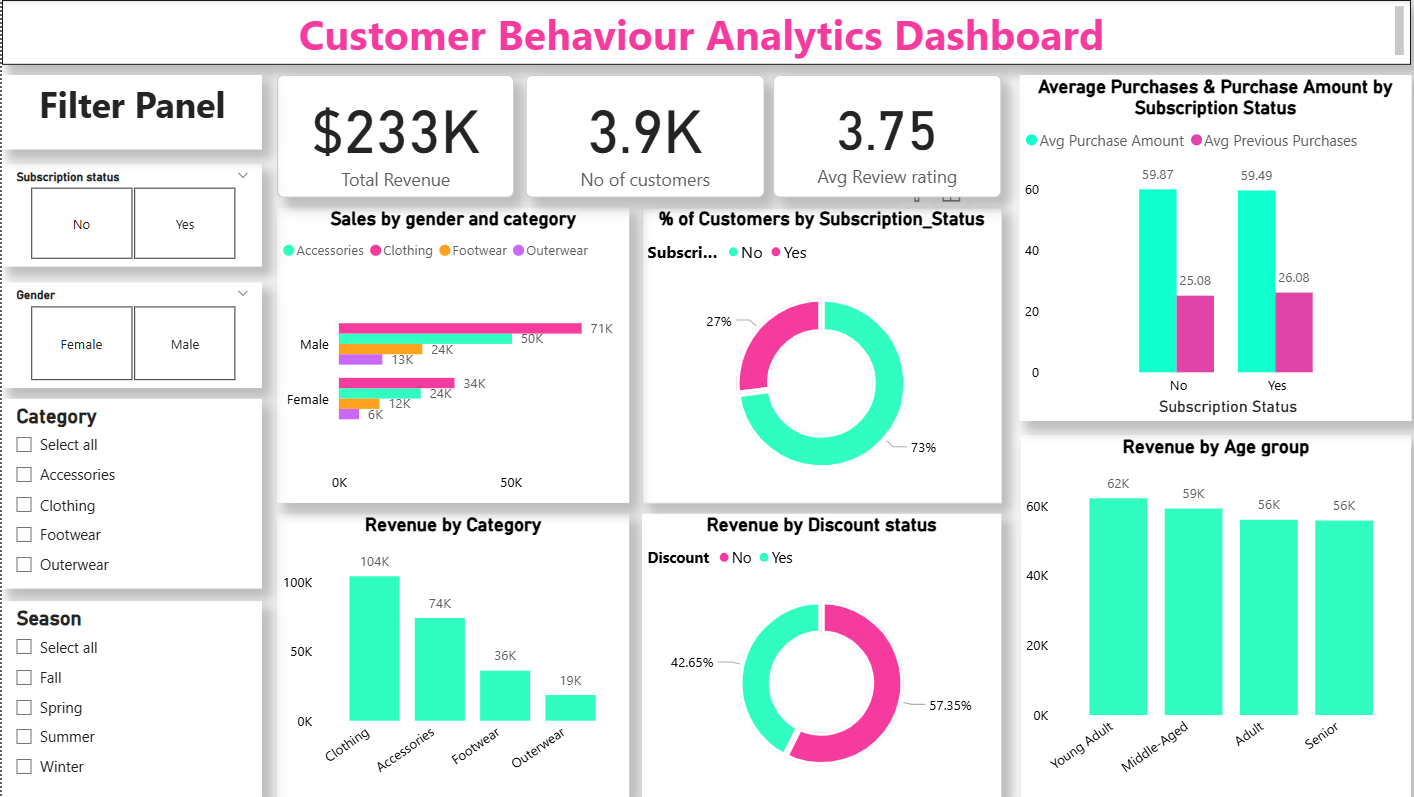

The page's visual inventory and layout, read from the dashboard file:
{"tool":"powerbi","page":{"name":"Page 1","canvas":[1280,720],"ordinal":0},"visuals":[{"type":"textbox","box":[0,0,1270.5,58.7],"z":0},{"type":"donutChart","title":"% of Customers by Subscription_Status","fields":{"Category":["customer_behaviour customer.subscription_status"],"Y":["customer_behaviour customer.No of customers"]},"box":[577.2,187.1,324.1,266.6],"z":1000},{"type":"clusteredColumnChart","title":"Revenue by Category","fields":{"Y":["Sum(customer_behaviour customer.purchase_amount)"],"Category":["customer_behaviour customer.category"]},"box":[248.2,463.5,317.9,256.8],"z":2000},{"type":"clusteredBarChart","title":"Sales by gender and category","fields":{"Category":["customer_behaviour customer.gender"],"Series":["customer_behaviour customer.category"],"Y":["Sum(customer_behaviour customer.purchase_amount)"]},"box":[248.2,187.1,317.9,266.6],"z":3000},{"type":"columnChart","title":"Revenue  by Age group","fields":{"Category":["customer_behaviour customer.age_group"],"Y":["Sum(customer_behaviour customer.purchase_amount)"]},"box":[918.3,392.5,352.2,327.7],"z":4000},{"type":"donutChart","title":"Revenue by Discount status","fields":{"Category":["customer_behaviour customer.discount_applied"],"Y":["Sum(customer_behaviour customer.purchase_amount)"]},"box":[577.2,463.5,324.1,256.8],"z":5000},{"type":"clusteredColumnChart","title":"Average Purchases & Purchase Amount by Subscription Status","fields":{"Category":["customer_behaviour customer.subscription_status"],"Y":["Avg(customer_behaviour customer.purchase_amount)","Avg(customer_behaviour customer.previous_purchases)"]},"box":[917.1,67.3,353.4,311.8],"z":6000},{"type":"card","fields":{"Values":["Sum(customer_behaviour customer.purchase_amount)"]},"box":[248.2,67.3,214,110.1],"z":7000},{"type":"card","fields":{"Values":["customer_behaviour customer.No of customers"]},"box":[472,67.3,215.2,110.1],"z":8000},{"type":"card","fields":{"Values":["customer_behaviour customer.Avg Review rating"]},"box":[695.8,67.3,205.4,110.1],"z":9000},{"type":"slicer","fields":{"Values":["customer_behaviour customer.subscription_status"]},"box":[0,148,234.8,92.9],"z":10000},{"type":"slicer","fields":{"Values":["customer_behaviour customer.gender"]},"box":[0,254.3,234.8,95.4],"z":11000},{"type":"slicer","fields":{"Values":["customer_behaviour customer.category"]},"box":[0,359.5,234.8,171.2],"z":12000},{"type":"textbox","box":[0,67.3,234.8,67.3],"z":13000},{"type":"slicer","fields":{"Values":["customer_behaviour customer.season"]},"box":[0,541.7,234.8,178.5],"z":14000}]}

Visuals, with their boxes in screenshot pixels (x1, y1, x2, y2), scaled from the page's 1280x720 canvas onto the 1414x797 screenshot:
textbox: 0:0:1404:65
"% of Customers by Subscription_Status" donutChart: 638:207:996:502
"Revenue by Category" clusteredColumnChart: 274:513:625:796
"Sales by gender and category" clusteredBarChart: 274:207:625:502
"Revenue  by Age group" columnChart: 1014:434:1404:796
"Revenue by Discount status" donutChart: 638:513:996:796
"Average Purchases & Purchase Amount by Subscription Status" clusteredColumnChart: 1013:74:1404:420
card - Sum(customer_behaviour customer.purchase_amount): 274:74:511:196
card - customer_behaviour customer.No of customers: 521:74:759:196
card - customer_behaviour customer.Avg Review rating: 769:74:996:196
slicer - customer_behaviour customer.subscription_status: 0:164:259:267
slicer - customer_behaviour customer.gender: 0:281:259:387
slicer - customer_behaviour customer.category: 0:398:259:587
textbox: 0:74:259:149
slicer - customer_behaviour customer.season: 0:600:259:796
